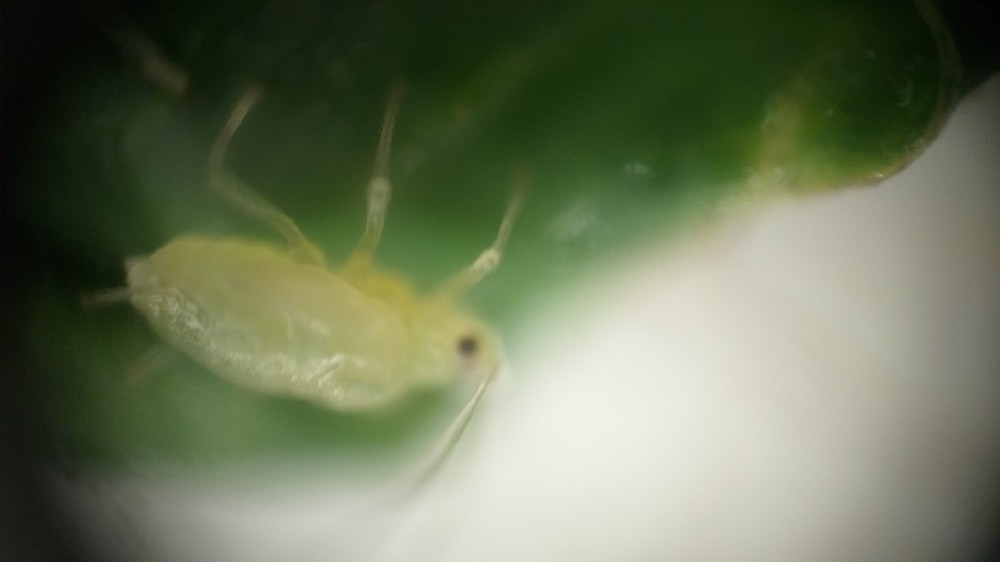Pulgon: (83, 95, 607, 521)
